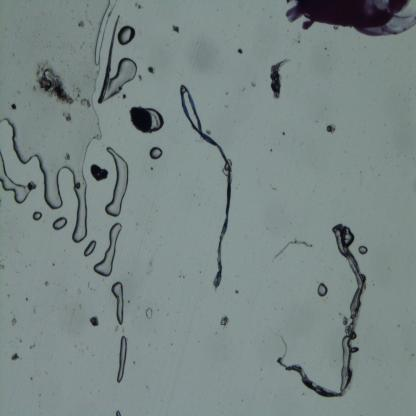Air bubble: (0, 0, 116, 245), (105, 148, 129, 218), (0, 150, 31, 203), (93, 222, 122, 277), (107, 57, 138, 102), (111, 281, 124, 325), (117, 336, 127, 383), (118, 26, 135, 46), (82, 239, 97, 257), (52, 216, 67, 231), (149, 146, 163, 160), (318, 283, 328, 298), (32, 210, 43, 221), (357, 246, 368, 256), (116, 408, 121, 416)
Background material: (97, 12, 122, 104), (36, 60, 77, 106), (269, 59, 287, 102), (128, 106, 153, 134), (91, 162, 109, 181), (228, 282, 243, 296), (79, 96, 92, 109), (63, 108, 73, 124), (220, 314, 230, 329), (326, 122, 336, 136), (90, 314, 100, 328), (248, 76, 257, 90), (146, 64, 156, 75), (61, 150, 72, 160), (132, 1, 144, 10), (146, 305, 153, 320), (27, 180, 37, 190), (172, 23, 180, 35), (8, 101, 18, 110), (42, 275, 49, 287), (10, 354, 20, 362), (10, 317, 18, 327), (78, 18, 85, 28), (236, 48, 244, 55), (76, 180, 80, 190)
Cellulose filter fibre: (273, 226, 366, 398), (273, 239, 312, 262)
Cotton: (181, 85, 231, 291)
Pen: (285, 1, 415, 38)
